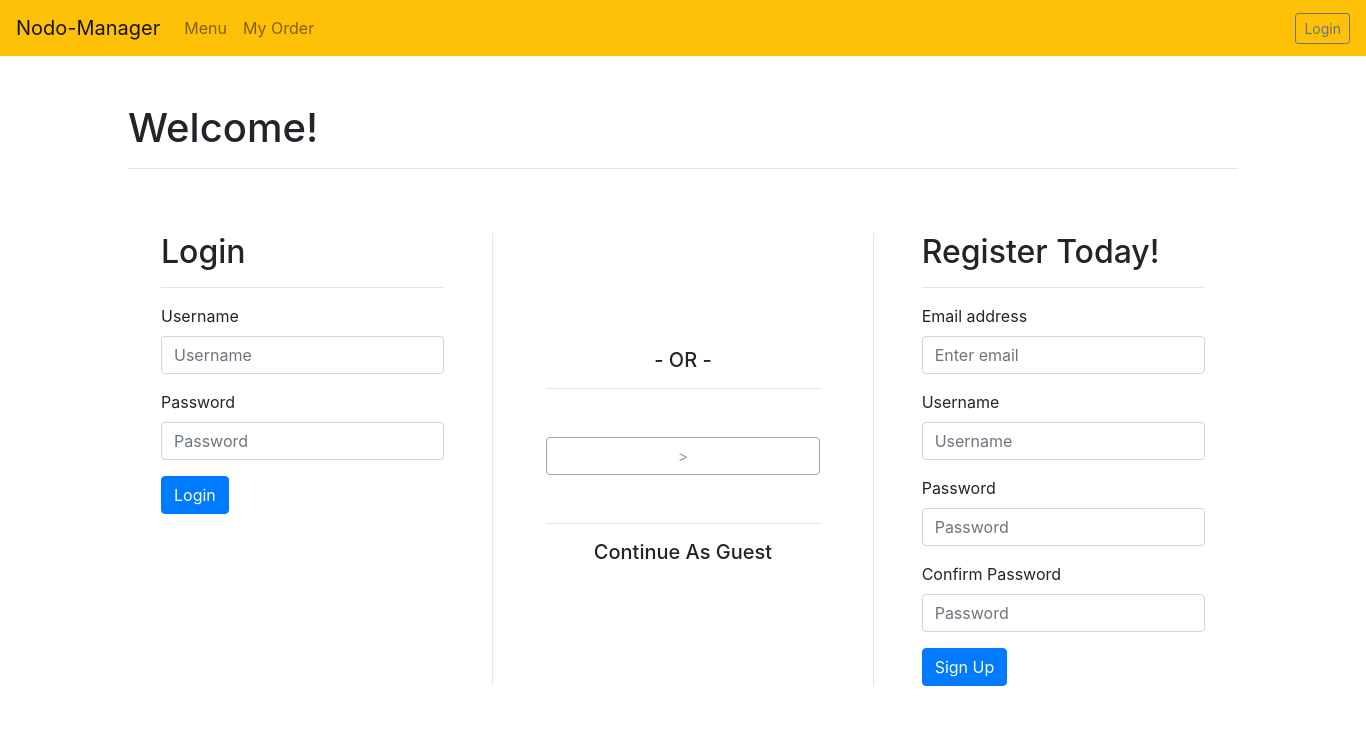
Register Form Actions › Email Input › requires a minimum input of 5 characters
Step 1. Type "@23" into the field with id "register-email" → x=1064, y=355, box x1=922 y1=336 x2=1205 y2=374
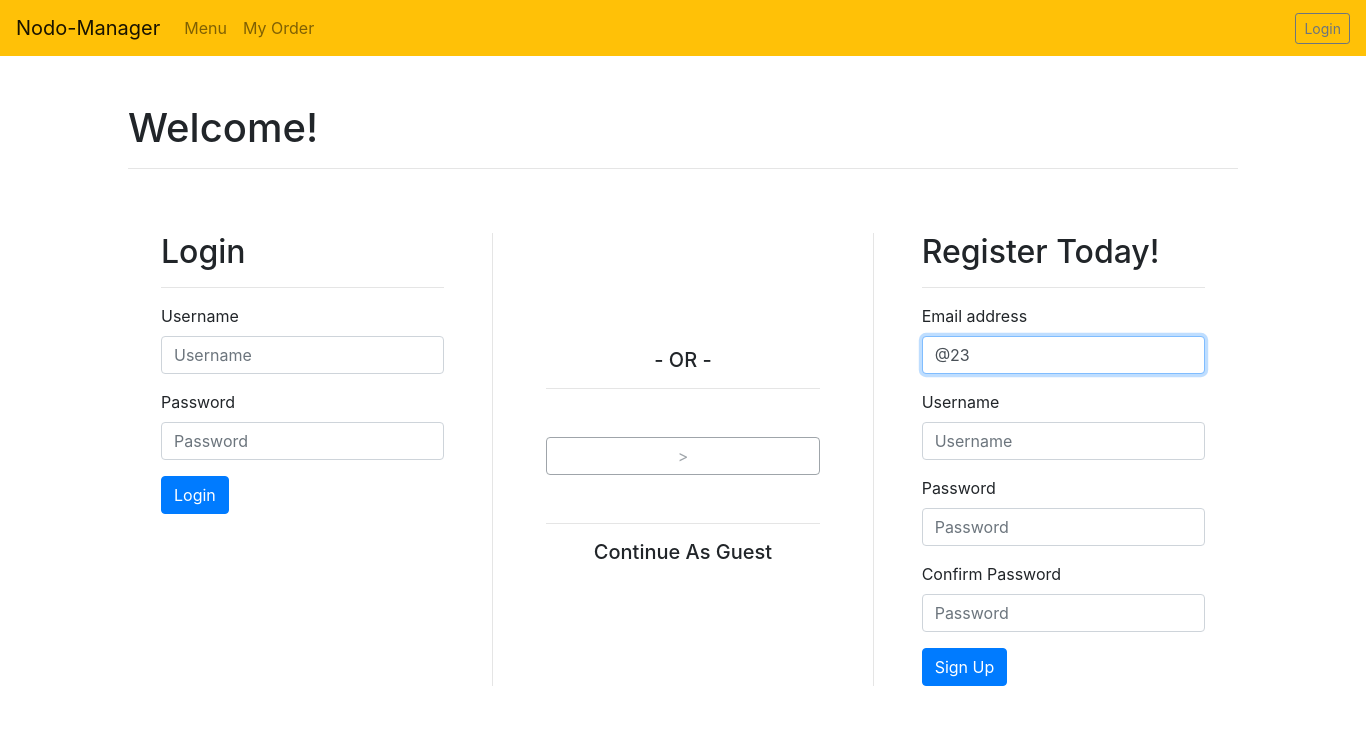
Step 2. Click the button with id "register-submit-button" → x=965, y=667, box x1=922 y1=648 x2=1008 y2=686
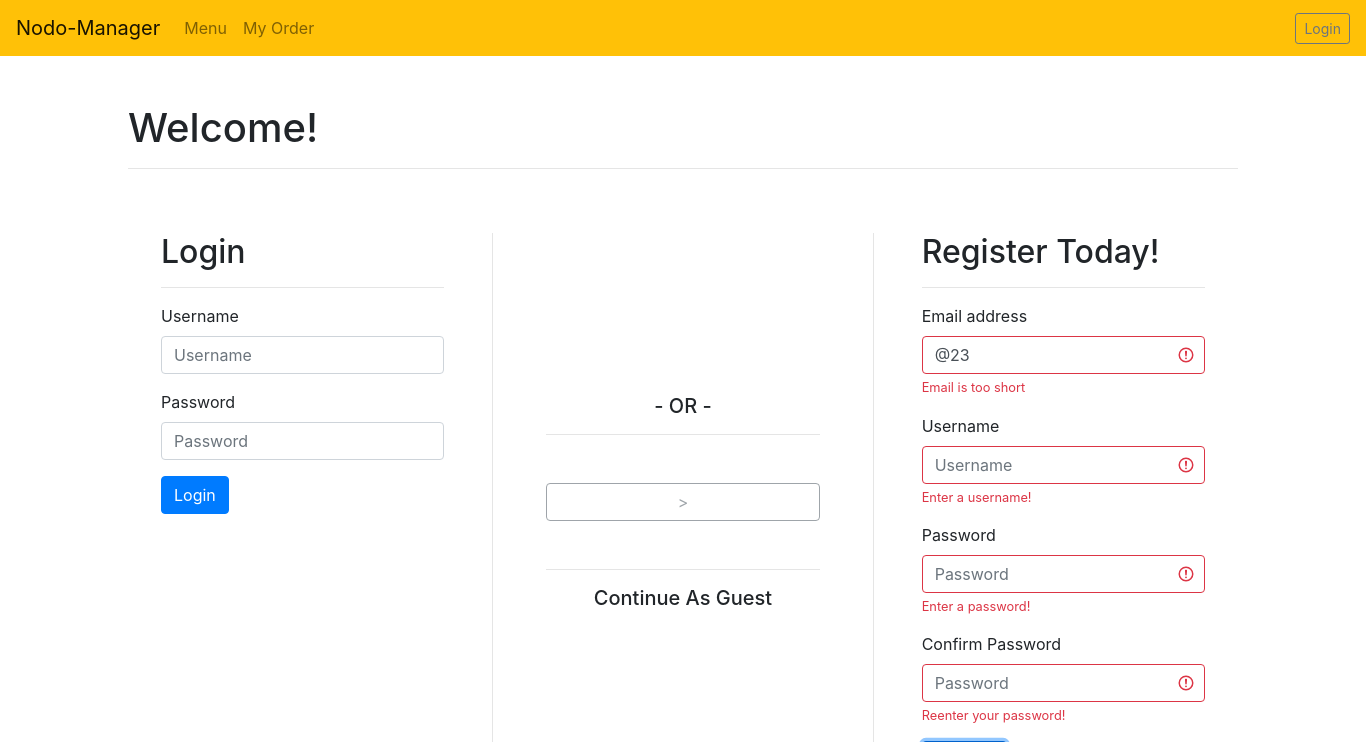
Expected: the text "Email is too short" is shown, x1=922 y1=380 x2=1025 y2=395
